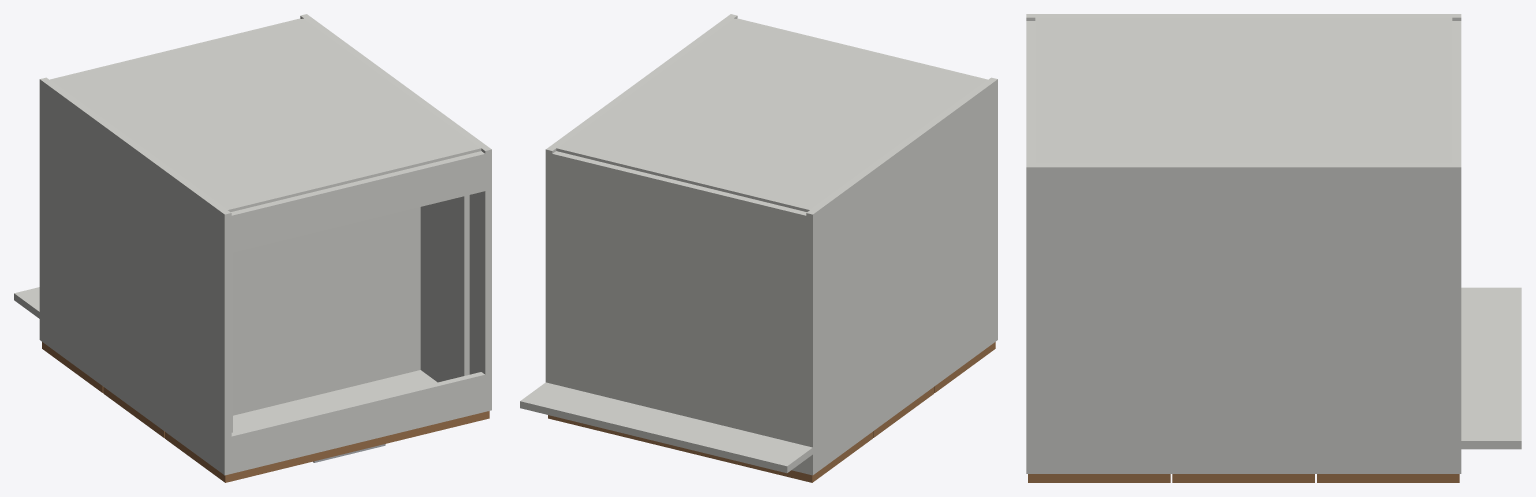
The model's file is M02_drawer_cabinet.obj.
The picture shows the model from 3 angles, left to right: view 1: azimuth 30°, elevation 25°; view 2: azimuth 150°, elevation 25°; view 3: azimuth 270°, elevation 25°; orthographic projection. The views are drawn at different scales.
Visible parts, largest first — view 1: M02_drawer_cabinet_Lateral_Esquerda, M02_drawer_cabinet_Fundo, M02_drawer_cabinet_Gaveta_3_Fundo, M02_drawer_cabinet_Travessa_Traseira, M02_drawer_cabinet_Travessa_Frontal, M02_drawer_cabinet_Gaveta_3_Lateral_D, M02_drawer_cabinet_Lateral_Direita, M02_drawer_cabinet_Gaveta_3_Contrafrente, M02_drawer_cabinet_Frente_Gaveta_3, M02_drawer_cabinet_Rodape; view 2: M02_drawer_cabinet_Base, M02_drawer_cabinet_Lateral_Esquerda, M02_drawer_cabinet_Fundo, M02_drawer_cabinet_Rodape, M02_drawer_cabinet_Lateral_Direita, M02_drawer_cabinet_Frente_Gaveta_1; view 3: M02_drawer_cabinet_Lateral_Direita, M02_drawer_cabinet_Fundo, M02_drawer_cabinet_Rodape, M02_drawer_cabinet_Lateral_Esquerda, M02_drawer_cabinet_Base, M02_drawer_cabinet_Travessa_Traseira, M02_drawer_cabinet_Frente_Gaveta_1, M02_drawer_cabinet_Frente_Gaveta_2, M02_drawer_cabinet_Frente_Gaveta_3.
Part boxes in pixels (<box>): M02_drawer_cabinet_Lateral_Esquerda: <box>39,77,231,475</box>; M02_drawer_cabinet_Fundo: <box>51,18,481,212</box>; M02_drawer_cabinet_Gaveta_3_Fundo: <box>233,207,420,415</box>; M02_drawer_cabinet_Travessa_Traseira: <box>231,151,485,252</box>; M02_drawer_cabinet_Travessa_Frontal: <box>231,372,485,473</box>; M02_drawer_cabinet_Gaveta_3_Lateral_D: <box>420,195,469,382</box>; M02_drawer_cabinet_Lateral_Direita: <box>300,14,491,411</box>; M02_drawer_cabinet_Gaveta_3_Contrafrente: <box>233,370,437,432</box>; M02_drawer_cabinet_Frente_Gaveta_3: <box>164,411,489,482</box>; M02_drawer_cabinet_Rodape: <box>14,287,39,318</box>; M02_drawer_cabinet_Base: <box>552,151,806,473</box>; M02_drawer_cabinet_Lateral_Esquerda: <box>806,77,997,475</box>; M02_drawer_cabinet_Fundo: <box>556,18,986,211</box>; M02_drawer_cabinet_Rodape: <box>520,382,812,473</box>; M02_drawer_cabinet_Lateral_Direita: <box>545,14,737,383</box>; M02_drawer_cabinet_Frente_Gaveta_1: <box>548,415,872,482</box>; M02_drawer_cabinet_Lateral_Direita: <box>1026,163,1461,473</box>; M02_drawer_cabinet_Fundo: <box>1035,17,1452,163</box>; M02_drawer_cabinet_Rodape: <box>1461,287,1521,449</box>; M02_drawer_cabinet_Lateral_Esquerda: <box>1026,14,1461,20</box>; M02_drawer_cabinet_Base: <box>1452,21,1461,163</box>; M02_drawer_cabinet_Travessa_Traseira: <box>1026,21,1035,163</box>; M02_drawer_cabinet_Frente_Gaveta_1: <box>1317,474,1459,482</box>; M02_drawer_cabinet_Frente_Gaveta_2: <box>1172,474,1314,482</box>; M02_drawer_cabinet_Frente_Gaveta_3: <box>1028,474,1170,482</box>.
Size of the model in its own units: 600 by 598 by 820.
